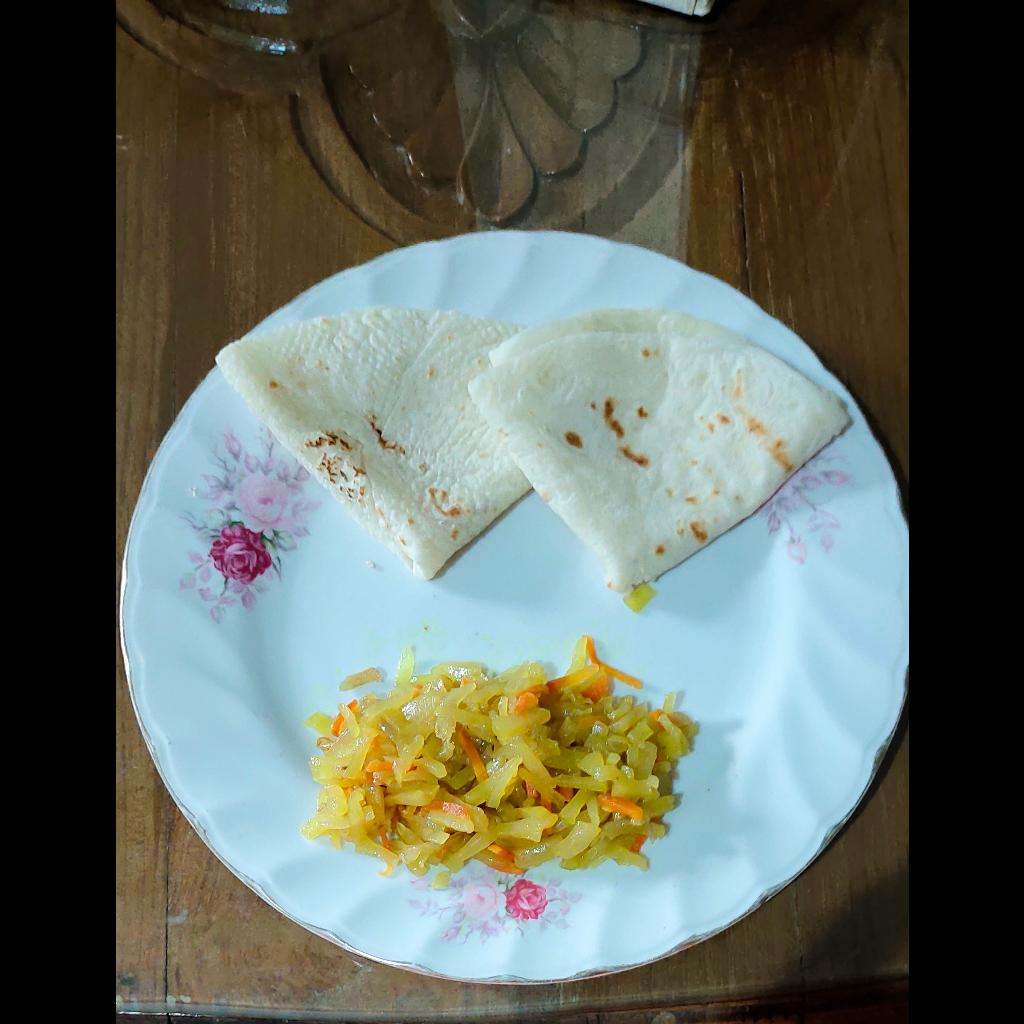ruti: (212, 300, 853, 588)
vaji: (299, 634, 698, 882)
